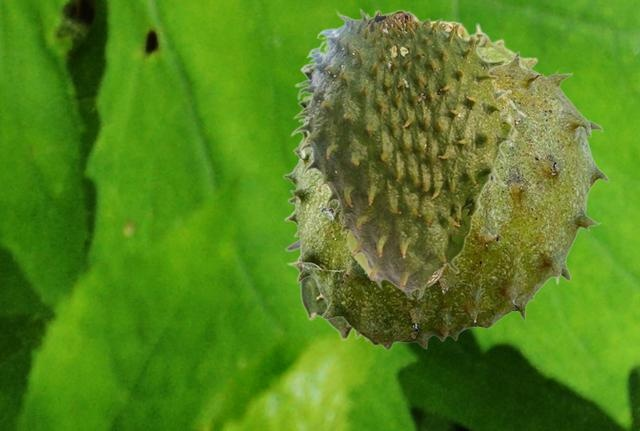guyabano: (282, 50, 609, 349), (284, 20, 539, 341), (290, 8, 526, 299)
